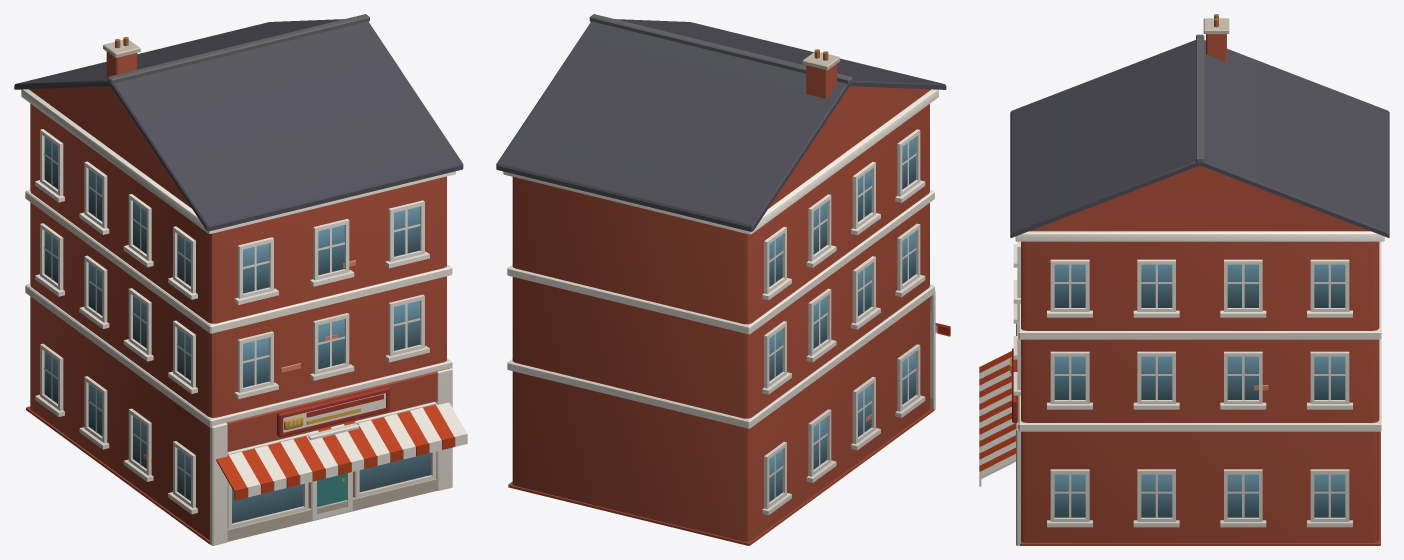
File: beacon_n20.glb
The picture shows the model from 3 angles, left to right: view 1: azimuth 30°, elevation 25°; view 2: azimuth 150°, elevation 25°; view 3: azimuth 270°, elevation 25°; orthographic projection. The views are drawn at different scales.
Visible parts, largest first — view 1: beacon_n20; view 2: beacon_n20; view 3: beacon_n20.
Part boxes in pixels (box(x1,y1,x2,y2)): beacon_n20: box(14, 14, 467, 545); beacon_n20: box(496, 14, 950, 545); beacon_n20: box(979, 14, 1389, 545).
Size of the model in its own units: 9.8 by 15.5 by 13.74.
Materials: 1 (1 with a texture image).
